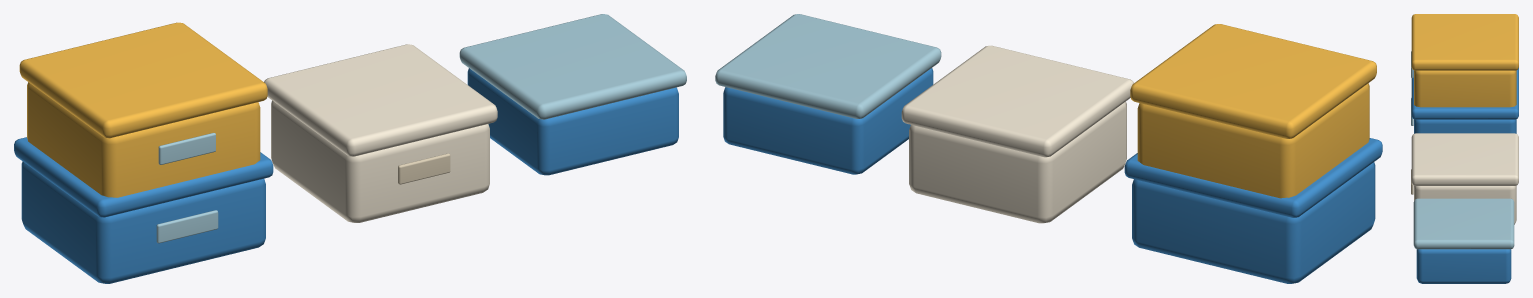
Rendered from Clinical_Storage_Bins.glb.
3 renders of one model, left to right at view 1: azimuth 30°, elevation 25°; view 2: azimuth 150°, elevation 25°; view 3: azimuth 270°, elevation 25°, orthographic. The views are drawn at different scales.
Visible parts, largest first — view 1: Clinical_Storage_Bins__Visual; view 2: Clinical_Storage_Bins__Visual; view 3: Clinical_Storage_Bins__Visual.
Boxes of the visible parts, x1,y1,x2,y2 form: Clinical_Storage_Bins__Visual: (14,14,686,283); Clinical_Storage_Bins__Visual: (715,14,1382,283); Clinical_Storage_Bins__Visual: (1411,14,1518,283).
Size of the model in its own units: 1.05 by 0.2845 by 0.2735.
Materials: 1 (1 with a texture image).
